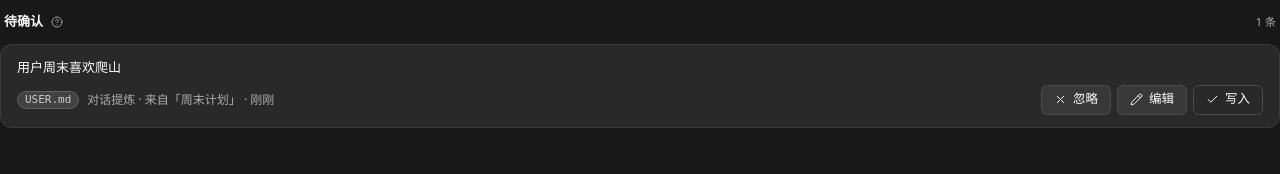
Test case: MemoryReviewSection › writes a proposal, shows provenance, and drops it from the list
Expected: the text "用户周末喜欢爬山" is shown, [17,58,121,76]
Expected: the text "对话提炼 · 来自「周末计划」 · 刚刚" is shown, [87,90,274,108]
Click the button "写入" at (1228, 100), box [1193,84,1263,114]
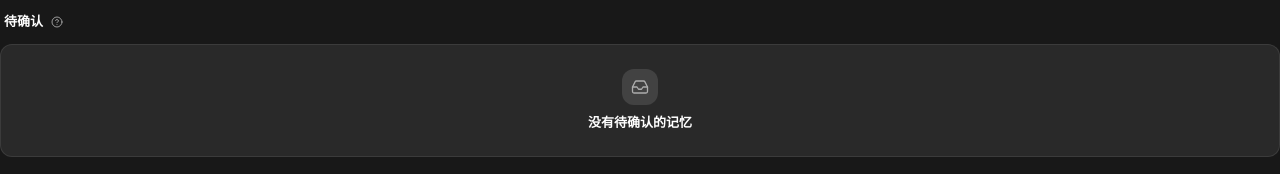
Expected: the text "没有待确认的记忆" is shown, [588,112,692,132]
